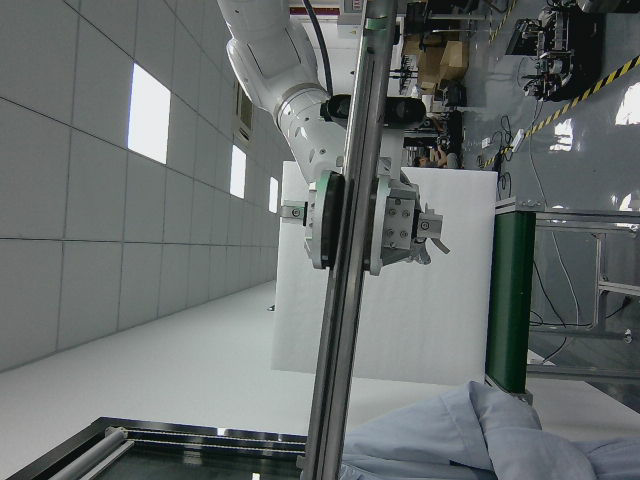up: (305, 1, 399, 474)
